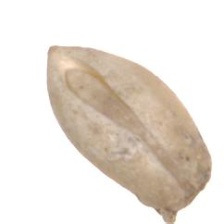L1: (45, 39, 86, 96), (173, 161, 212, 214)
L2: (45, 44, 212, 211)
